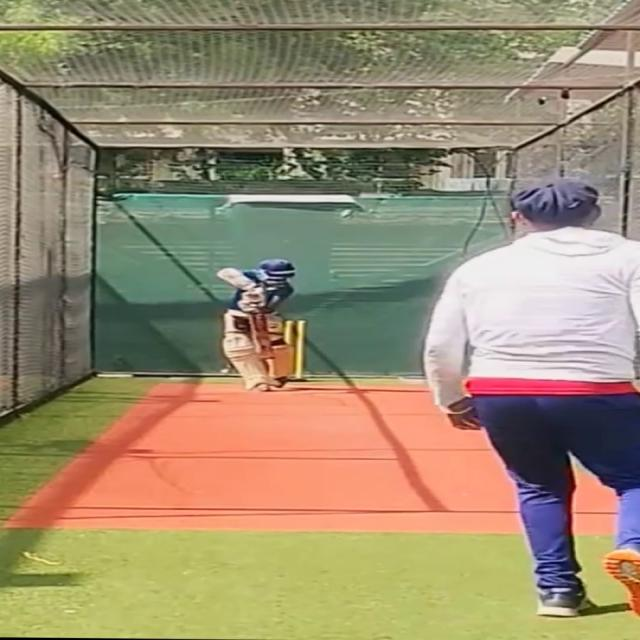stump: (280, 319, 312, 381)
